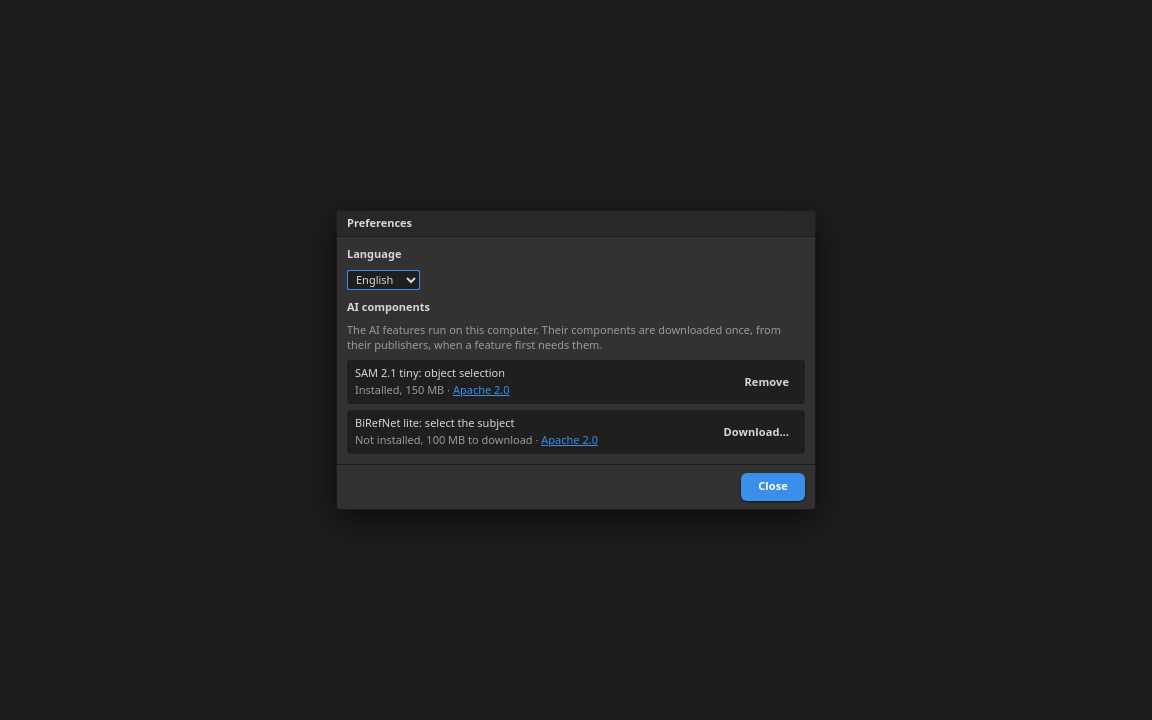
Scenario: Download… asks first, and the list refreshes when the dialog is left
Check: the text "BiRefNet lite: select the subject" is shown, box [355, 415, 514, 430]
Click the button "Download…": click(756, 432) [716, 421, 797, 443]
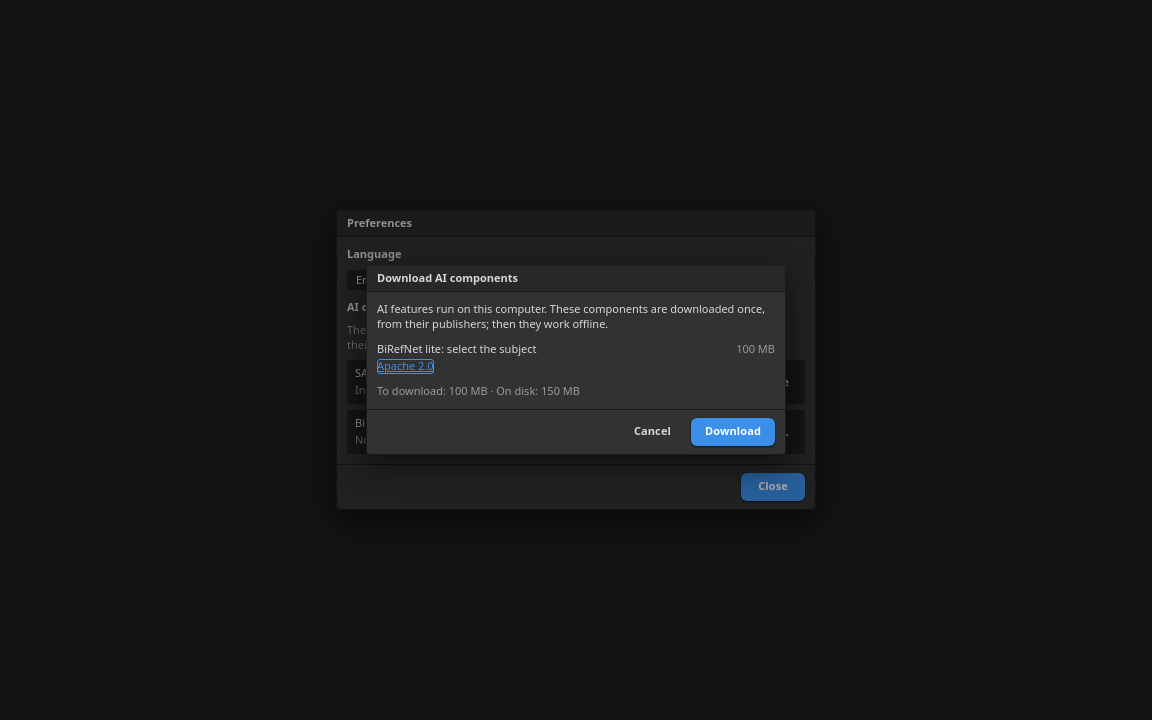
Check: the dialog "Download AI components" is shown, box [366, 266, 786, 455]
Click the button "Cancel": click(652, 432) [620, 418, 685, 446]
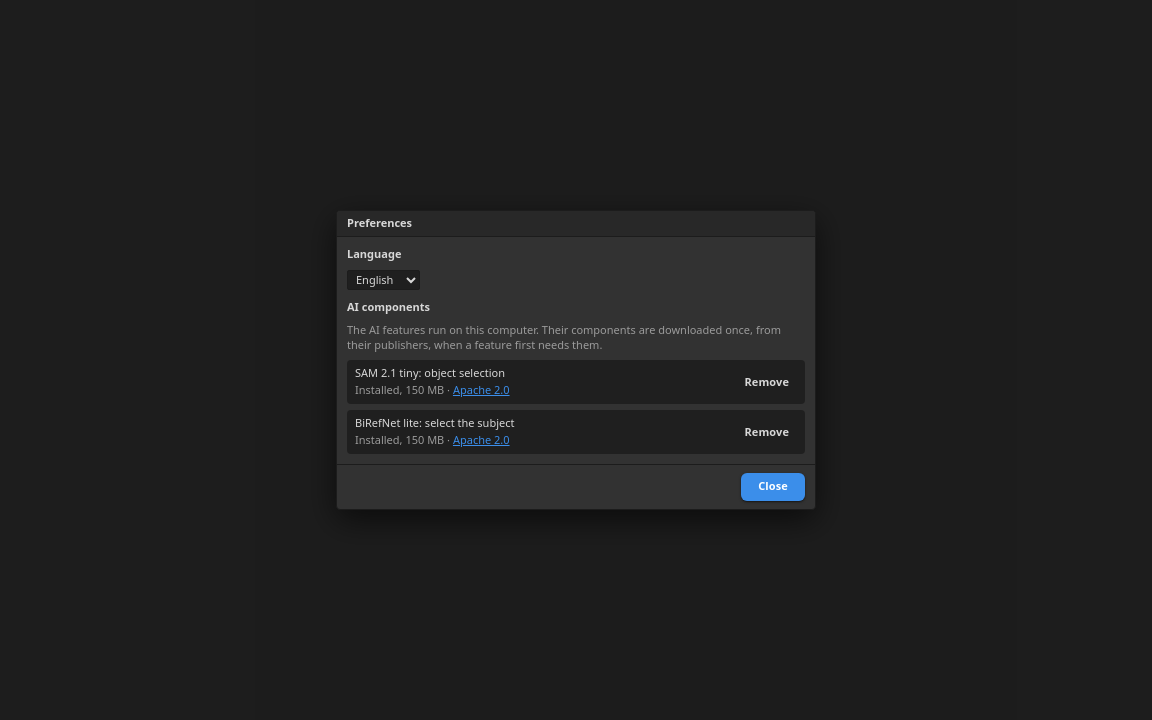
Check: the text "Installed, 150 MB · Apache 2.0" below "BiRefNet lite: select the subject" is shown, box [355, 432, 453, 447]
Check: the header "Download AI components" is gone
